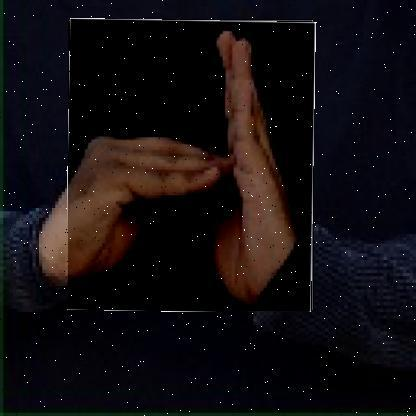Z: (67, 19, 314, 312)
